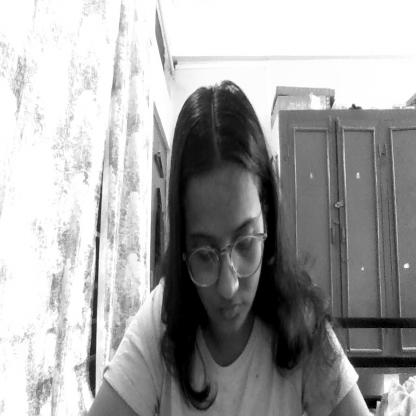Normal: (174, 90, 272, 335)
